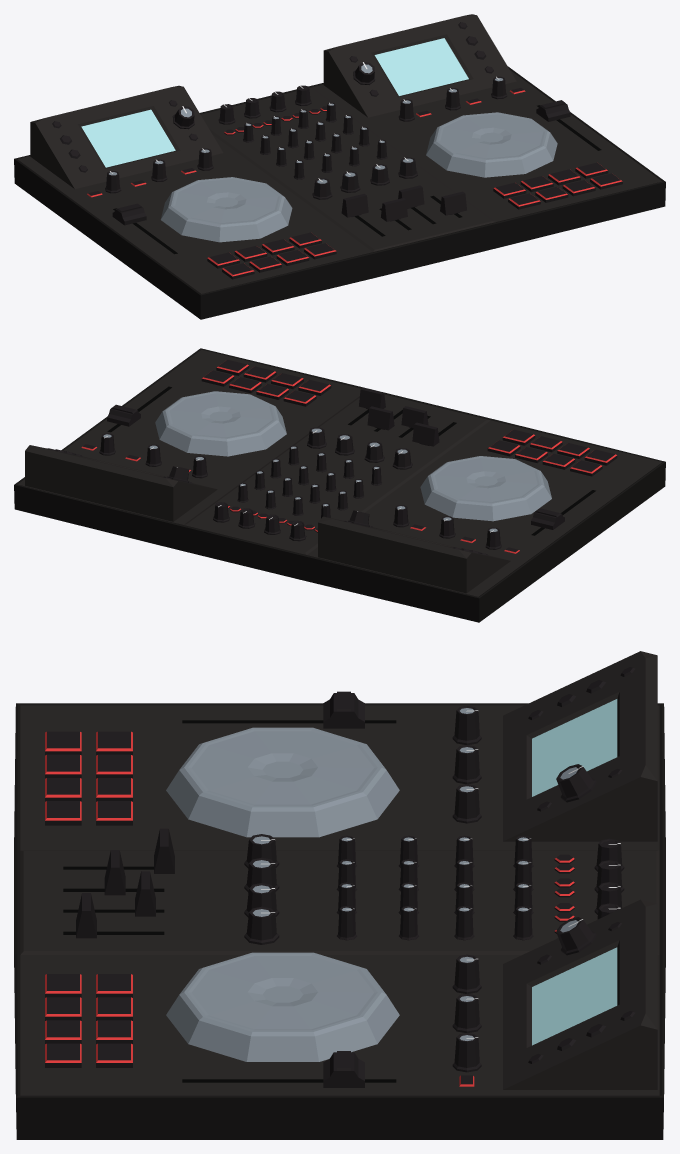
Rendered from DJ Deck by J-Toastie - TjJnlht0fB.glb.
The picture shows the model from 3 angles, top to bottom: view 1: azimuth 30°, elevation 25°; view 2: azimuth 150°, elevation 25°; view 3: azimuth 270°, elevation 25°; orthographic projection. The views are drawn at different scales.
Visible parts, largest first — view 1: DJ_Deck; view 2: DJ_Deck; view 3: DJ_Deck.
Part boxes in pixels (box(x1,y1,x2,y2)): DJ_Deck: box(14, 14, 665, 319); DJ_Deck: box(14, 348, 665, 622); DJ_Deck: box(14, 651, 665, 1139).
Bounding box in the file's own units: 2.52 × 0.3293 × 1.76.
